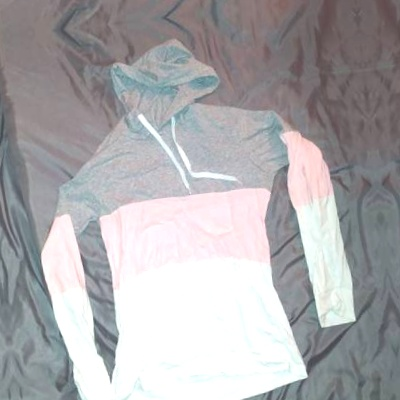Hoodie: (7, 31, 367, 400), (393, 0, 400, 384), (0, 0, 318, 4)
